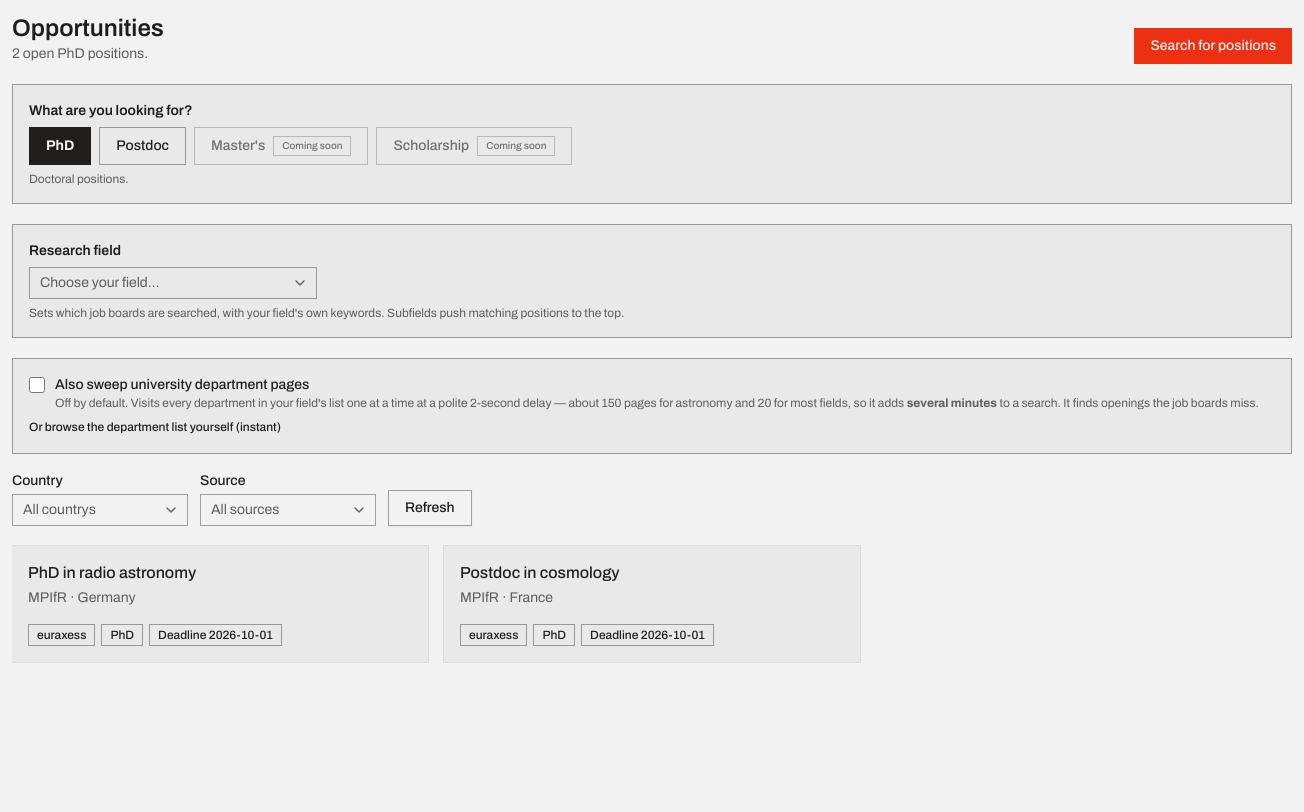
it: OpportunitiesPage › says so when a field has no dedicated job board yet
This screenshot has width=1304, height=812.
Expected: the link "PhD in radio astronomy" is shown, [28, 564, 196, 581]
Click the dropdown named "Research field".
click(100, 283)  # box [29, 267, 317, 299]
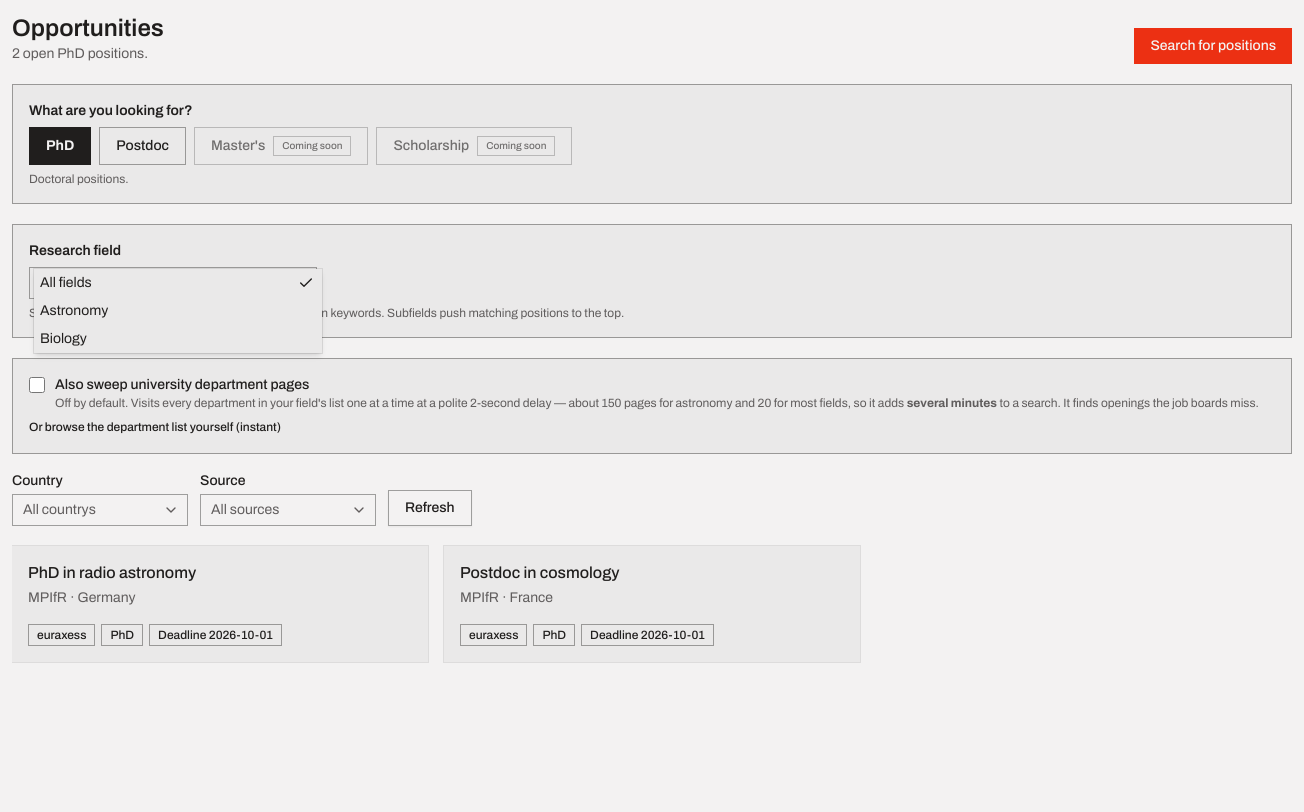
Click the option "Biology".
click(63, 339)  # box [40, 331, 87, 346]
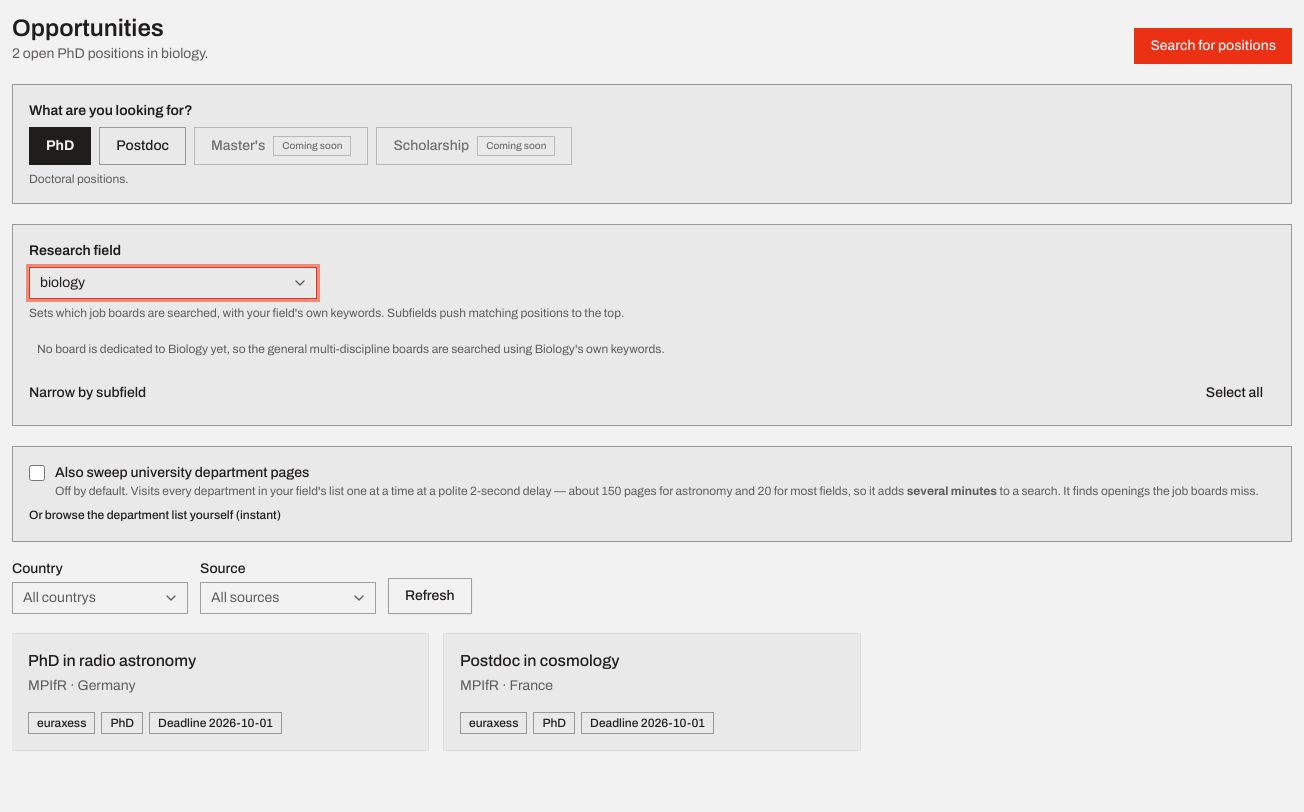
Expected: the text "No board is dedicated to Biology yet" is shown, [29, 333, 1275, 365]
